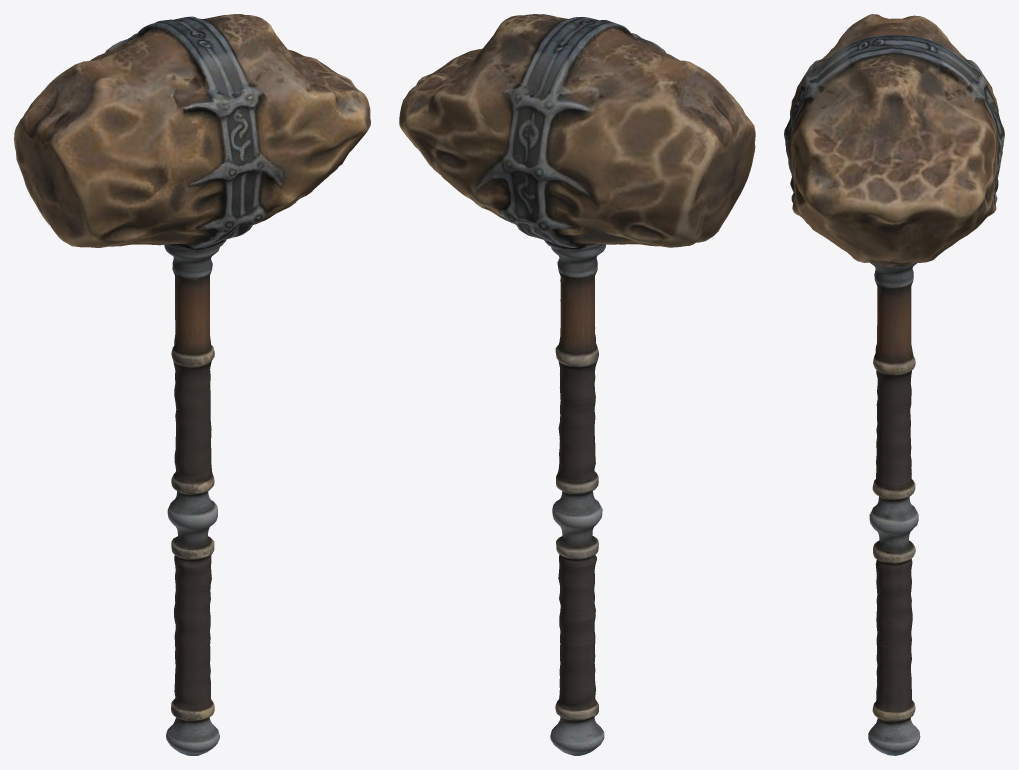
File: PF_Hammer5.glb
3 views of the same model, side by side, from view 1: azimuth 30°, elevation 25°; view 2: azimuth 150°, elevation 25°; view 3: azimuth 270°, elevation 25° (orthographic). The views are drawn at different scales.
Bounding box in the file's own units: 0.8628 × 1.91 × 0.5369.
Materials: 1 (1 with a texture image).
